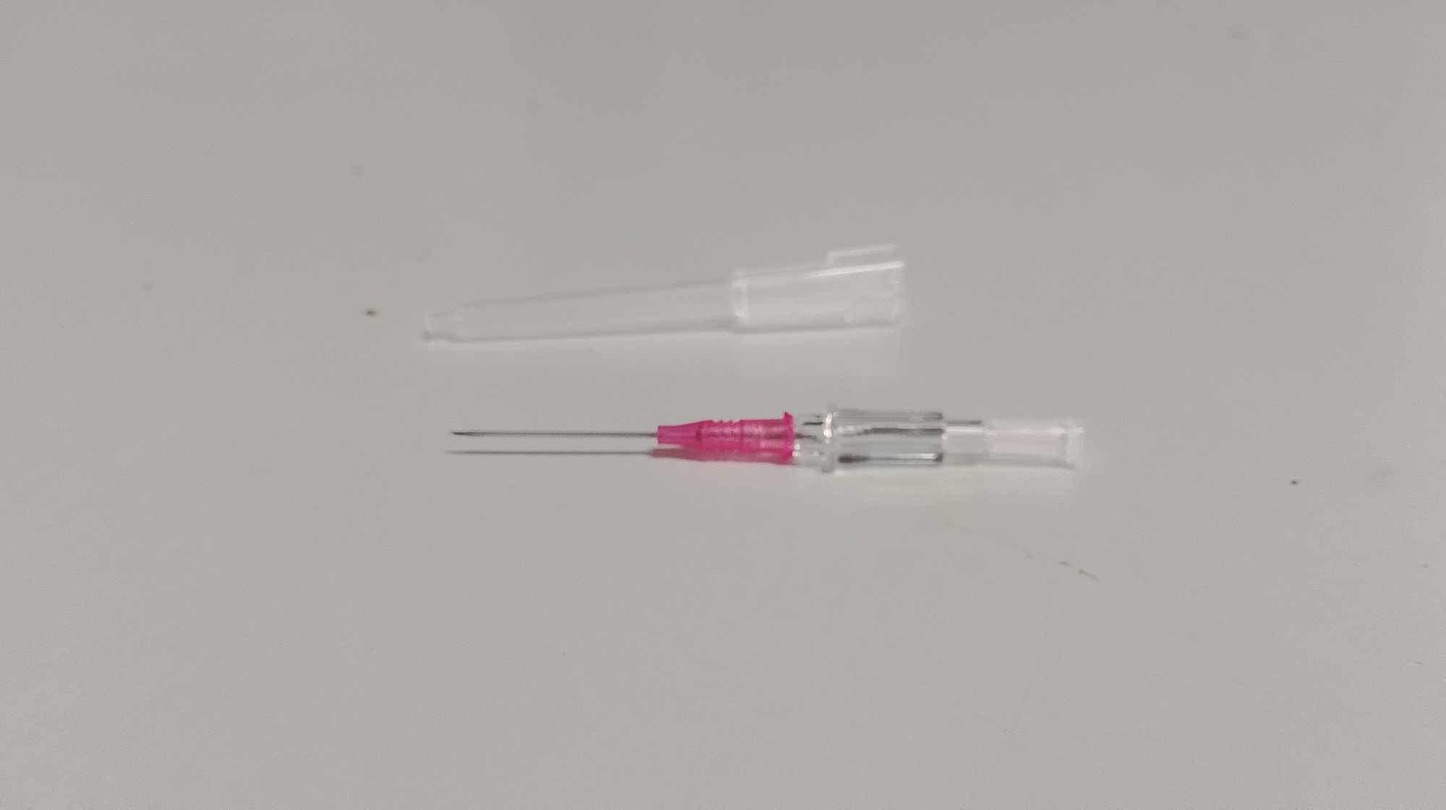General: (651, 410, 798, 463)
Sharps: (420, 241, 909, 346), (444, 405, 1084, 472)
